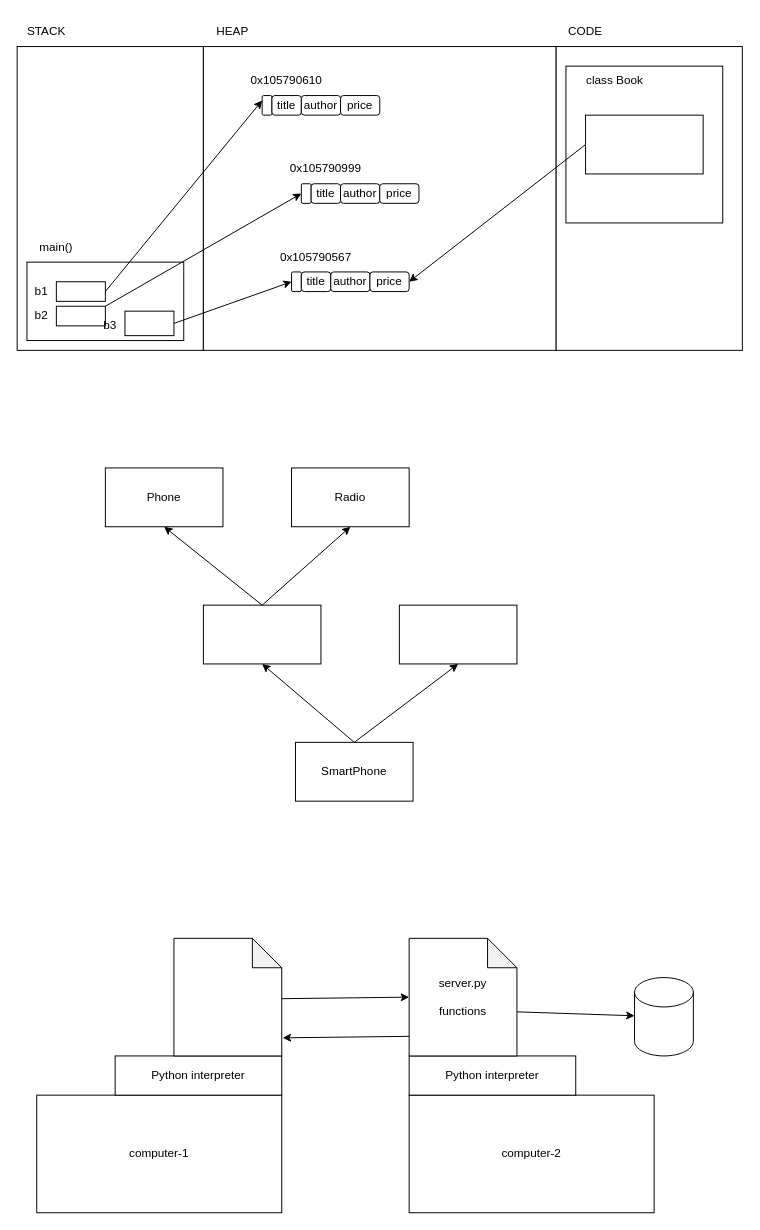
Image size: 760x1230. Some labels were removed from this diagram. Each missing label, with the centre of its shape:
Camera: point 457,634
client.py: point 227,996
MobilePhone: point 261,634
print(self): point 644,144
